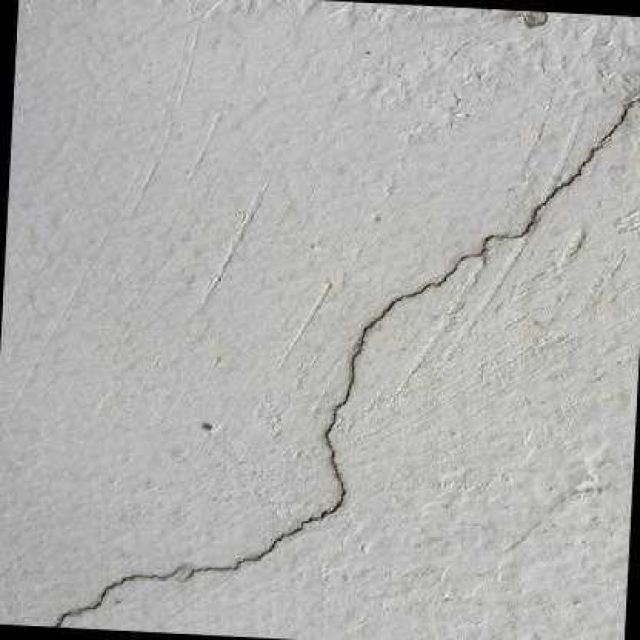D00: (49, 89, 640, 627)
